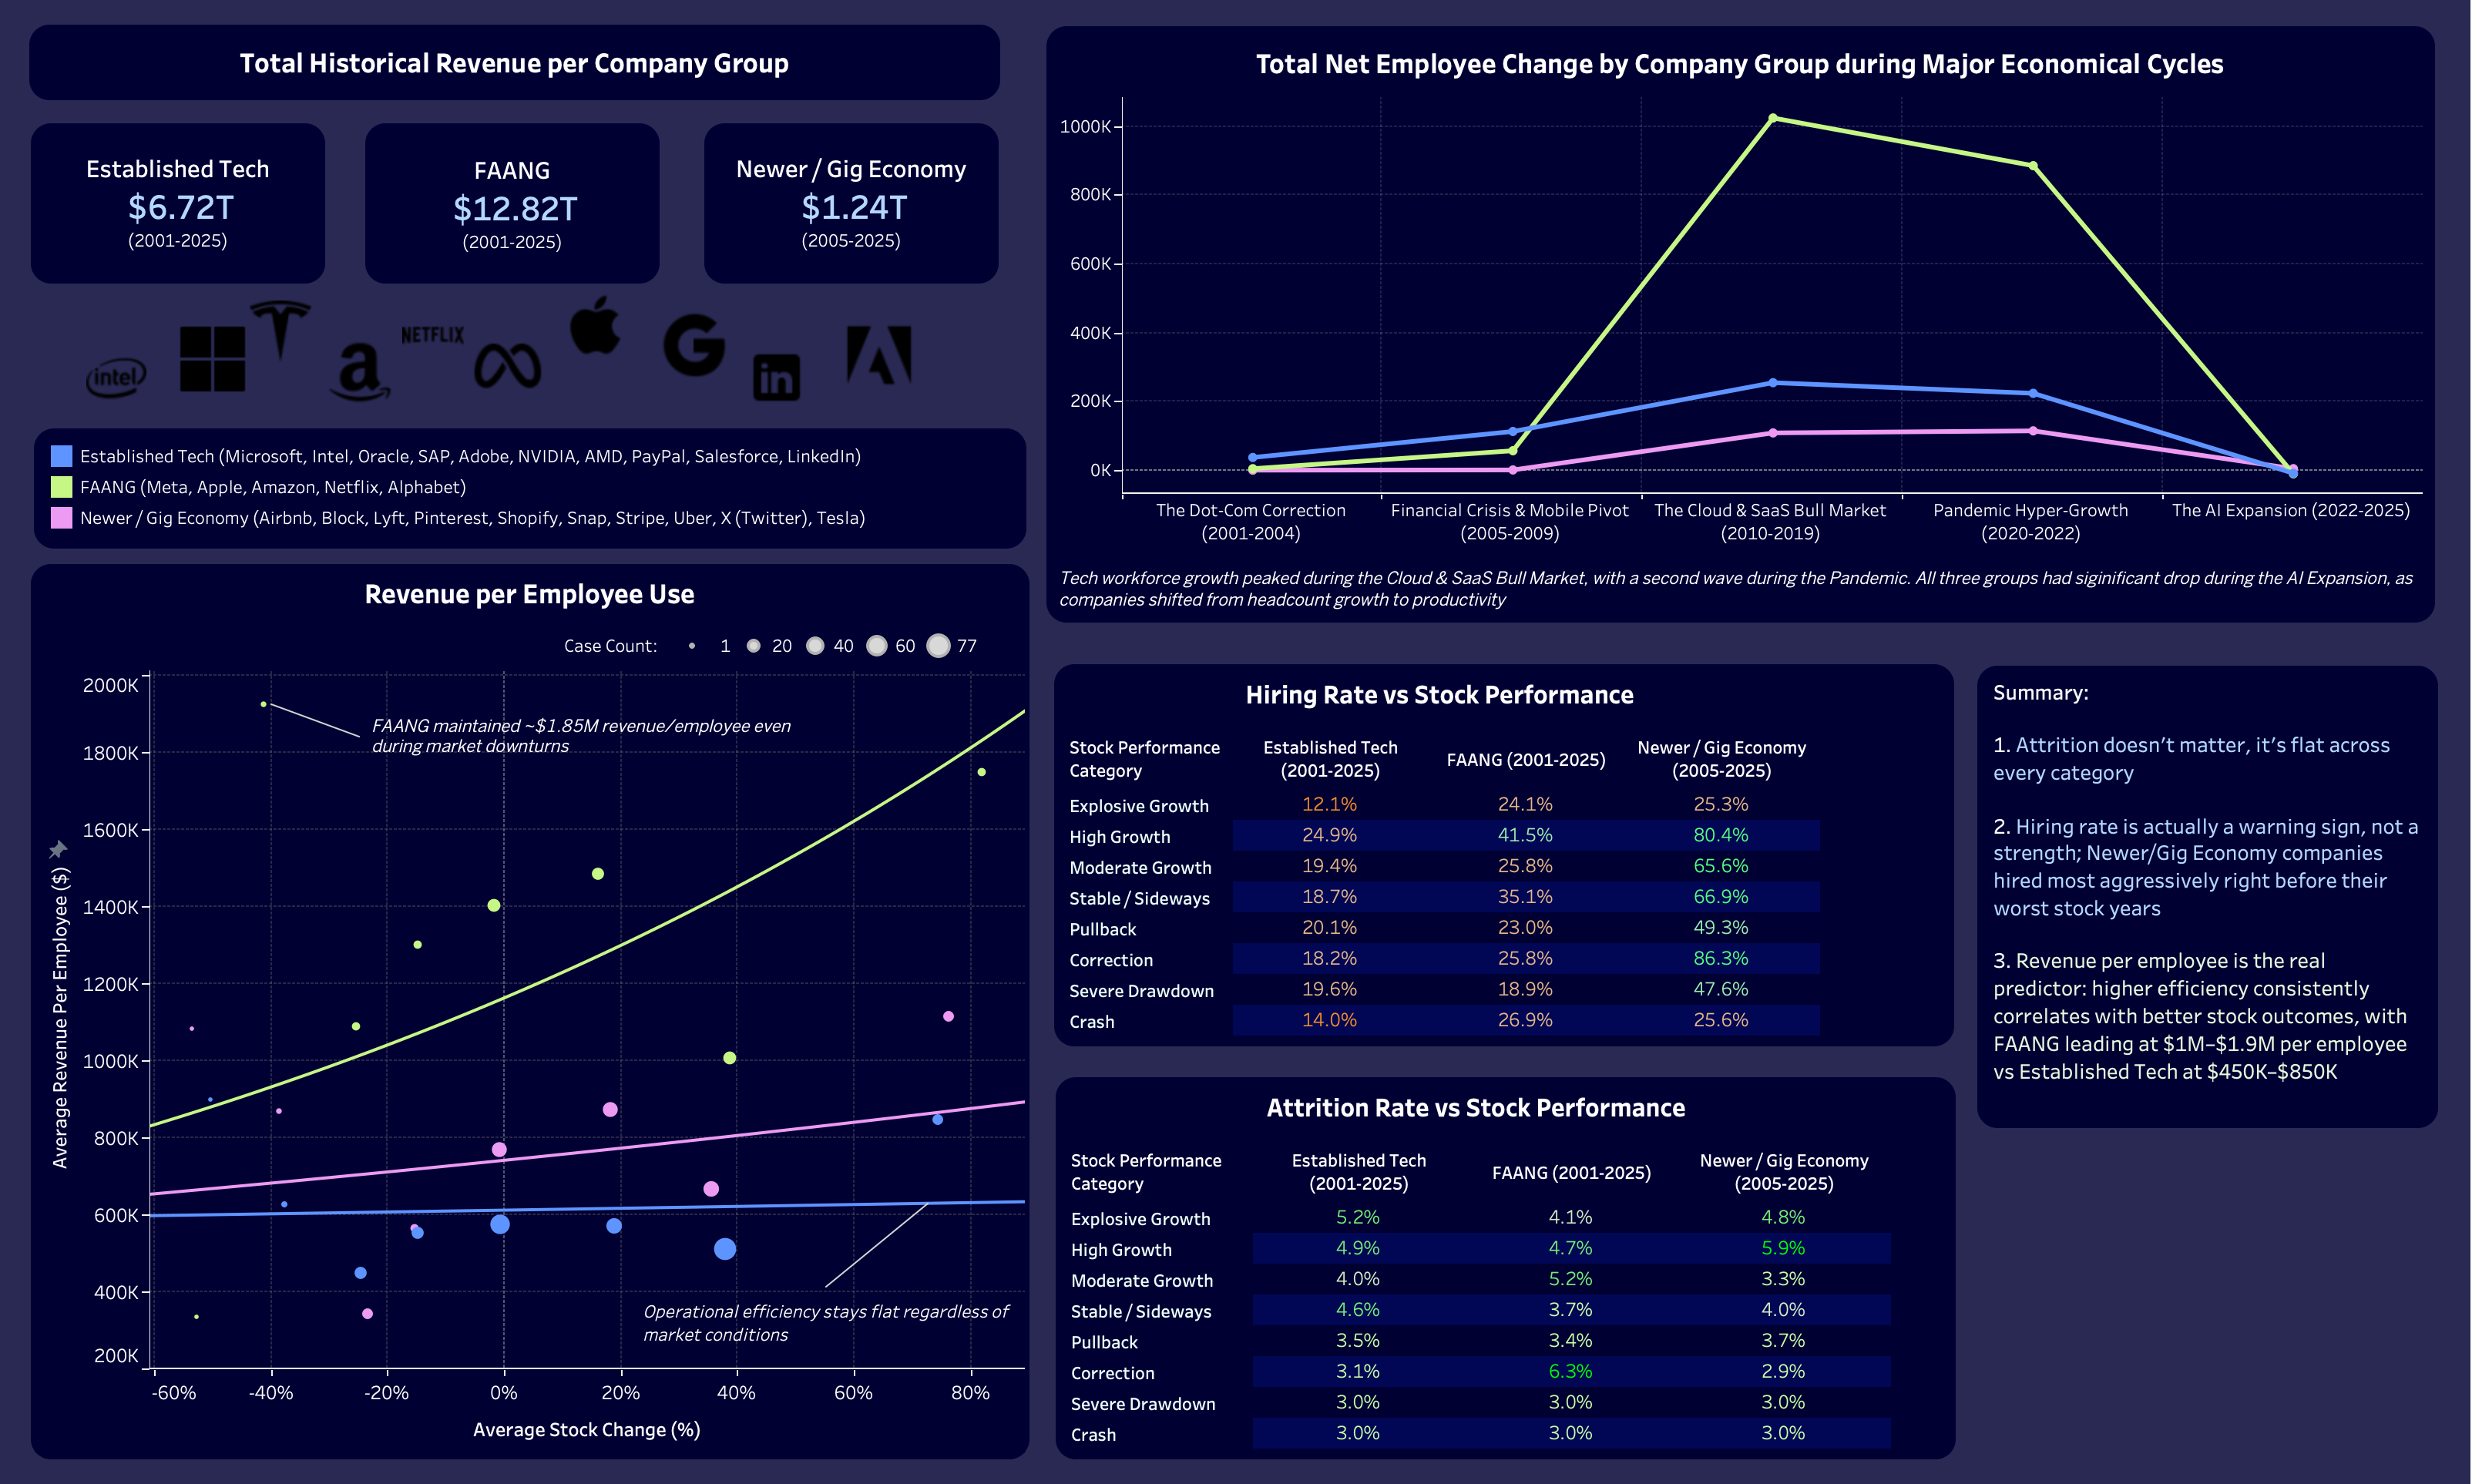

The dashboard page shown, as its layout file describes it:
{"tool":"tableau","page":{"name":"Tech Workforce Dashboard","canvas":[1000,1000],"units":"permille","ordinal":0},"visuals":[{"type":"text","box":[17.1,24.5,388.8,50]},{"type":"worksheet","title":"Net Employee","mark":"Line","rows":["TOTAL_NET_CHANGE"],"cols":["ECONOMIC_PERIOD"],"box":[424.3,24.5,557.2,396.9]},{"type":"text","box":[17.1,88.8,119.1,108.2]},{"type":"text","box":[151.3,88.8,119.1,108.2]},{"type":"text","box":[286.8,88.8,119.1,108.2]},{"type":"image","param":"Image/icons8-apple-inc-50.png","box":[231.5,202.8,27.8,41.7]},{"type":"image","param":"Image/icons8-tesla-48.png","box":[105.6,207.1,29.6,40.8]},{"type":"image","param":"Image/icons8-netflix-50.png","box":[166.7,209.3,43.8,40.7]},{"type":"image","param":"Image/icons8-google-50.png","box":[269.8,214.3,30.2,44.9]},{"type":"image","param":"Image/icons8-adobe-50.png","box":[343.2,219.4,29,52]},{"type":"image","param":"Image/icons8-microsoft-50.png","box":[75.3,220.4,33.3,51]},{"type":"image","param":"Image/icons8-meta-50.png","box":[195.1,226.8,30.2,46.3]},{"type":"image","param":"Image/icons8-amazon-50.png","box":[136.4,232.7,29.6,43.9]},{"type":"image","param":"Image/icons8-intel-48.png","box":[40.1,238.9,31.5,39.8]},{"type":"image","param":"Image/icons8-linkedin-50.png","box":[305.6,239.8,22.8,37]},{"type":"legend","title":"Net Employee","param":"[federated.0hgxl8v0xvoqxl16c0bv51ysr9j2].[none:COMPANY_GROUP:nk]","box":[17.1,288.8,401.3,85.7]},{"type":"worksheet","title":"Average Hiring Rate during Stock Performance Periods (2)","mark":"Circle","rows":["AVG_REV_PER_EMPLOYEE"],"cols":["Calculation_1598941339148292"],"box":[17.1,380.6,401.3,594.9]},{"type":"legend","title":"Average Hiring Rate during Stock Performance Periods (2)","param":"[federated.1xk9ta800p26ox1ffb9mq07y7hxp].[sum:CASE_COUNT:qk]","box":[231.6,425.5,189.5,21.4]},{"type":"worksheet","title":"Average Attrition Rate during Stock Performance Periods (2)","mark":"Automatic","rows":["STOCK_PERFORMANCE_CATEGORY"],"cols":["COMPANY_GROUP"],"box":[427.6,448,360.5,253.1]},{"type":"text","box":[796.9,448,185.8,308.2]},{"type":"worksheet","title":"Average Attrition Rate during Stock Performance Periods","mark":"Automatic","rows":["STOCK_PERFORMANCE_CATEGORY"],"cols":["COMPANY_GROUP"],"box":[428.3,721.4,360.5,253.1]}]}

Visuals, with their boxes on the dashboard's canvas, which has no fixed pixel size, in thousandths of its width and height (x1, y1, x2, y2). These are canvas units, not pixel positions in the 2472x1484 screenshot, which may show the page scaled, cropped or inside an application window:
text: [17,24,406,74]
"Net Employee" worksheet (Line marks): [424,24,982,421]
text: [17,89,136,197]
text: [151,89,270,197]
text: [287,89,406,197]
image: [232,203,259,244]
image: [106,207,135,248]
image: [167,209,210,250]
image: [270,214,300,259]
image: [343,219,372,271]
image: [75,220,109,271]
image: [195,227,225,273]
image: [136,233,166,277]
image: [40,239,72,279]
image: [306,240,328,277]
"Net Employee" legend: [17,289,418,374]
"Average Hiring Rate during Stock Performance Periods (2)" worksheet (Circle marks): [17,381,418,976]
"Average Hiring Rate during Stock Performance Periods (2)" legend: [232,426,421,447]
"Average Attrition Rate during Stock Performance Periods (2)" worksheet: [428,448,788,701]
text: [797,448,983,756]
"Average Attrition Rate during Stock Performance Periods" worksheet: [428,721,789,974]
